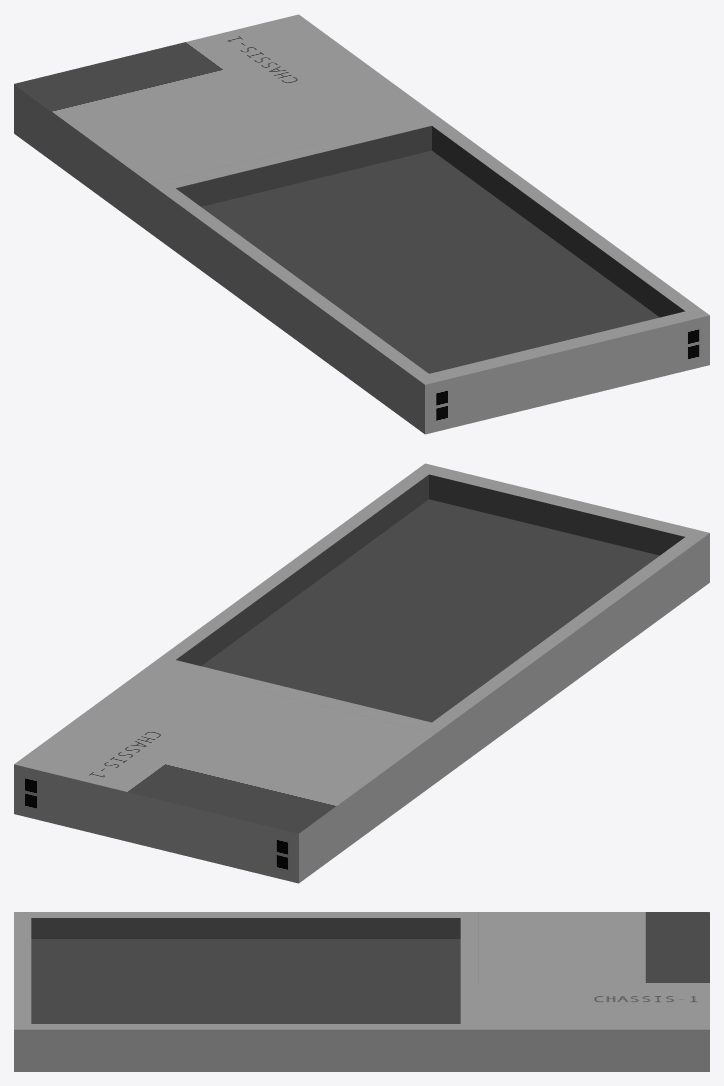
The model's file is Chassis.obj.
The picture shows the model from 3 angles, top to bottom: view 1: azimuth 30°, elevation 25°; view 2: azimuth 150°, elevation 25°; view 3: azimuth 270°, elevation 25°; orthographic projection. The views are drawn at different scales.
Parts seen in each view (by area): view 1: Chassis; view 2: Chassis; view 3: Chassis.
Boxes of the visible parts, <box> form: Chassis: <box>14,14,709,434</box>; Chassis: <box>14,463,709,883</box>; Chassis: <box>14,912,709,1071</box>.
Size of the model in its own units: 1.2 by 0.2 by 3.
